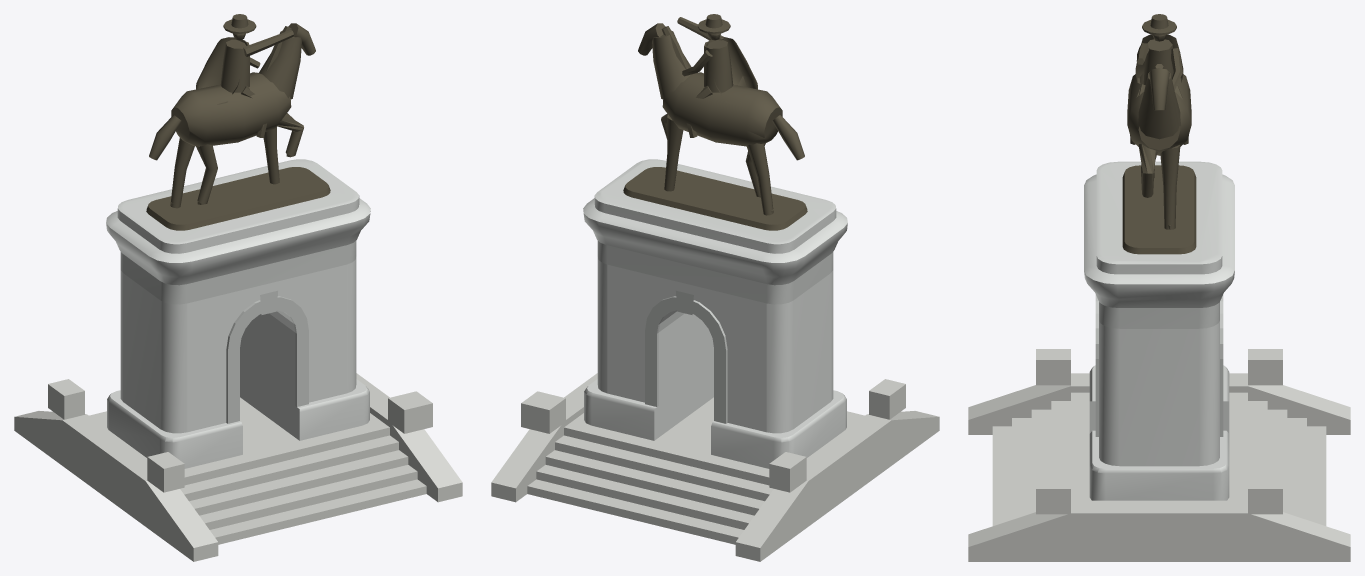
The model's file is hou-sam-houston-monument.glb.
The picture shows the model from 3 angles, left to right: view 1: azimuth 30°, elevation 25°; view 2: azimuth 150°, elevation 25°; view 3: azimuth 270°, elevation 25°; orthographic projection. The views are drawn at different scales.
Visible parts, largest first — view 1: Sam Houston Monument; view 2: Sam Houston Monument; view 3: Sam Houston Monument.
Boxes of the visible parts, x1=… form: Sam Houston Monument: x1=14, y1=14, x2=462, y2=561; Sam Houston Monument: x1=491, y1=14, x2=939, y2=561; Sam Houston Monument: x1=968, y1=14, x2=1350, y2=561.
Size of the model in its own units: 7.15 by 11.25 by 8.2.
